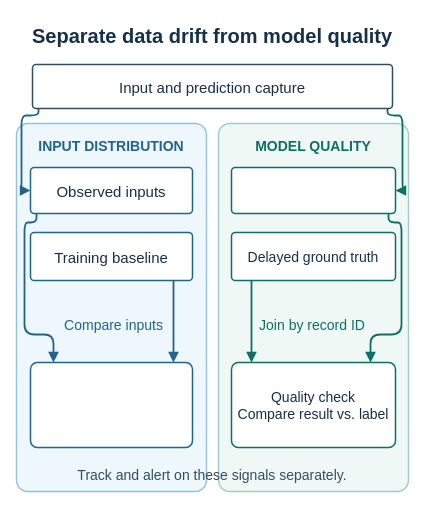
The diagram is 425 pixels wide and 508 high, and some of its shapes have lost their labels. The box of each missing label's shape, as (x1, y1, x2, y2) in pixels:
Data drift Input changed: (29, 361, 193, 448)
Prediction: (230, 166, 396, 214)
